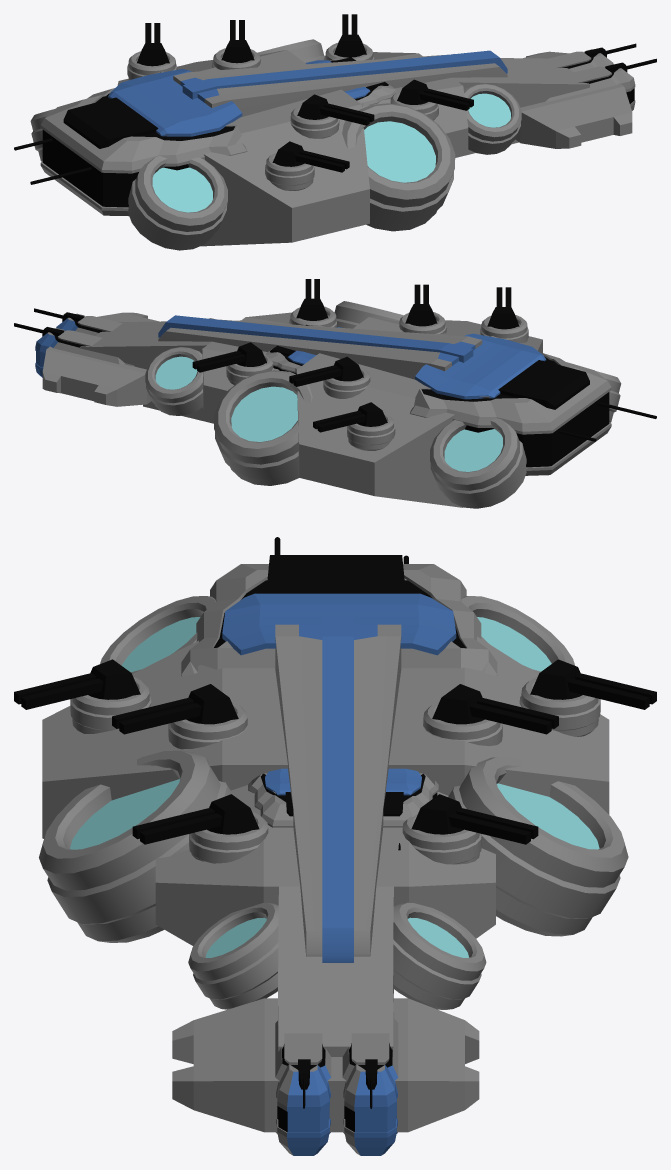
File: HumanShipE.fbx
The picture shows the model from 3 angles, top to bottom: view 1: azimuth 30°, elevation 25°; view 2: azimuth 150°, elevation 25°; view 3: azimuth 270°, elevation 25°; orthographic projection. The views are drawn at different scales.
Parts seen in each view (by area): view 1: HumanShipE; view 2: HumanShipE; view 3: HumanShipE.
Boxes of the visible parts, left/top/right/bottom form: HumanShipE: left=14, top=14, right=656, bottom=250; HumanShipE: left=14, top=279, right=656, bottom=508; HumanShipE: left=14, top=537, right=656, bottom=1155.
Size of the model in its own units: 21.83 by 4.1 by 11.75.
